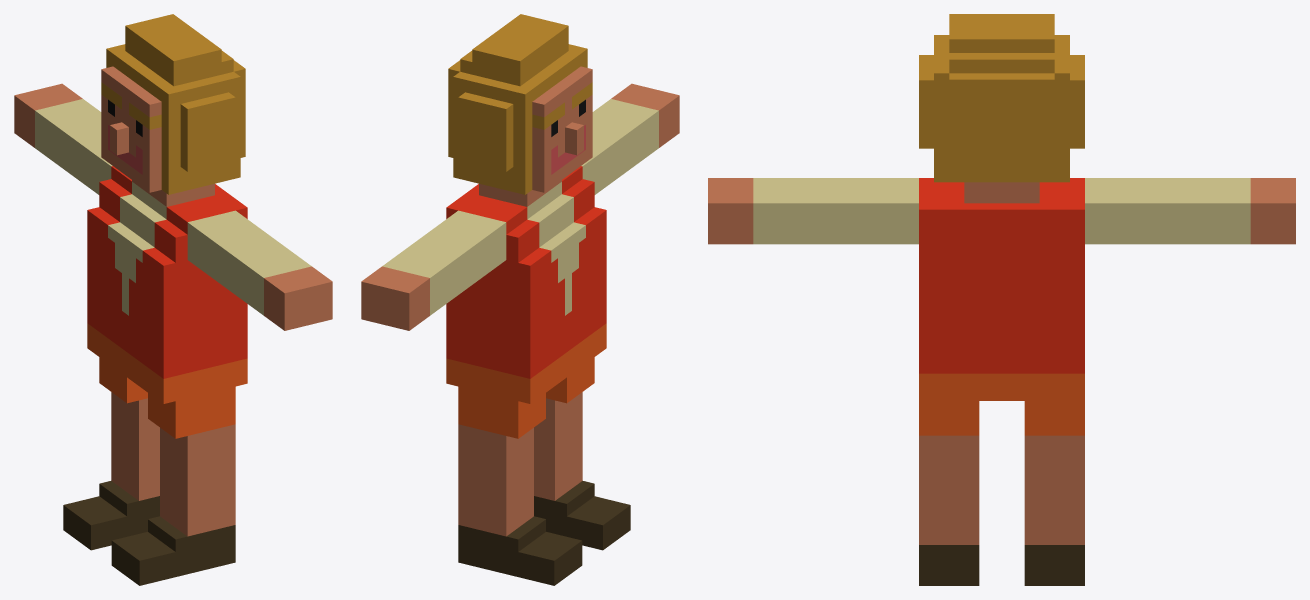
File: jose_orange.obj
3 renders of one model, left to right at view 1: azimuth 30°, elevation 25°; view 2: azimuth 150°, elevation 25°; view 3: azimuth 270°, elevation 25°, orthographic. The views are drawn at different scales.
Bounding box in the file's own units: 1 × 4 × 3.9.
1 material, 1 textured.
